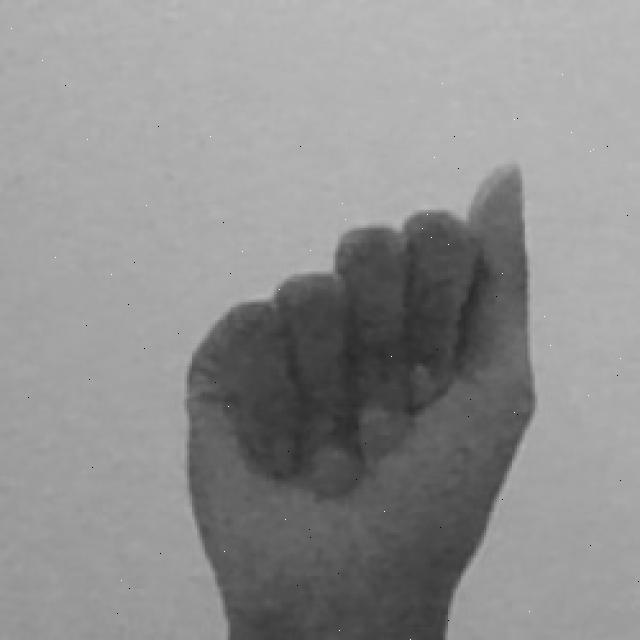A: (176, 158, 550, 640), (180, 150, 544, 640)
